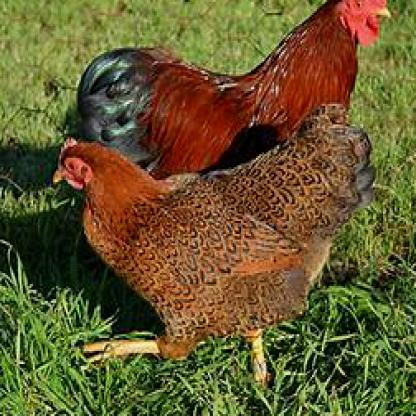chicken: (48, 110, 378, 390), (72, 0, 395, 179)
